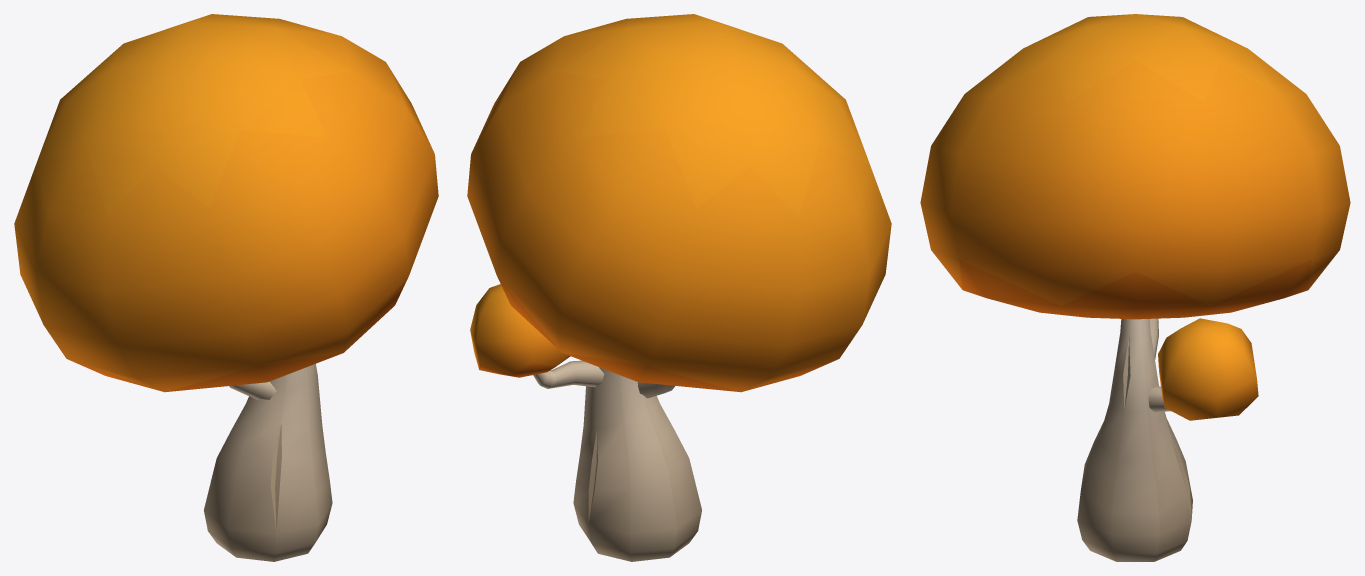
File: Tree_1_A_Color6.fbx
The picture shows the model from 3 angles, left to right: view 1: azimuth 30°, elevation 25°; view 2: azimuth 150°, elevation 25°; view 3: azimuth 270°, elevation 25°; orthographic projection. The views are drawn at different scales.
Visible parts, largest first — view 1: Tree_1_A_Color6; view 2: Tree_1_A_Color6; view 3: Tree_1_A_Color6.
Boxes of the visible parts, x1,y1,x2,y2 form: Tree_1_A_Color6: [14, 14, 438, 561]; Tree_1_A_Color6: [467, 14, 891, 561]; Tree_1_A_Color6: [920, 14, 1350, 561].
Bounding box in the file's own units: 3.18 × 4.16 × 3.25.
